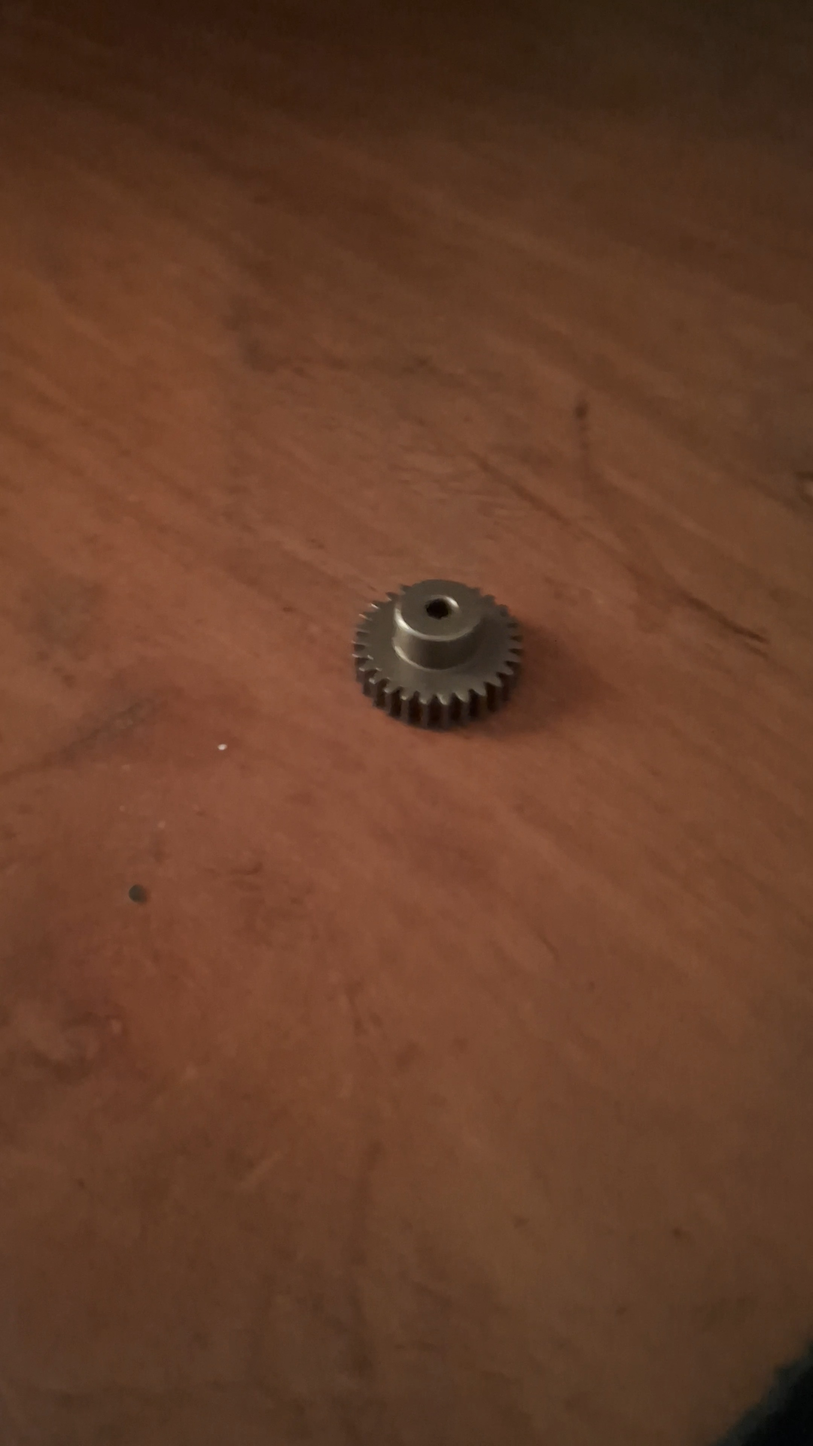spur gear: (354, 580, 521, 727)
